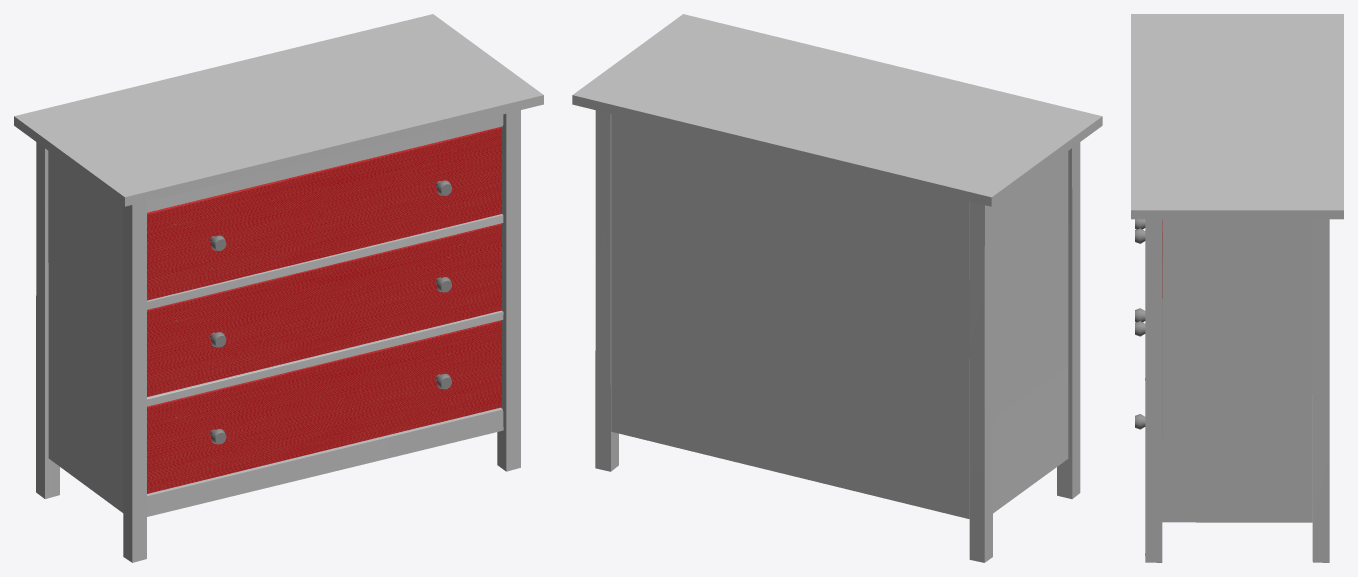
The model's file is Sideboard.FBX.
3 renders of one model, left to right at view 1: azimuth 30°, elevation 25°; view 2: azimuth 150°, elevation 25°; view 3: azimuth 270°, elevation 25°, orthographic. The views are drawn at different scales.
Parts seen in each view (by area): view 1: sideboard, drawer 1, drawer 3, drawer 2; view 2: sideboard; view 3: sideboard, drawer 3.
Part boxes in pixels (box(x1,y1,x2,y2)): sideboard: box(14, 14, 543, 562); drawer 1: box(147, 127, 501, 300); drawer 3: box(147, 320, 501, 493); drawer 2: box(147, 223, 501, 396); sideboard: box(572, 14, 1102, 562); sideboard: box(1131, 14, 1343, 562); drawer 3: box(1135, 308, 1145, 429).
Size of the model in its own units: 108 by 92.45 by 49.51.
